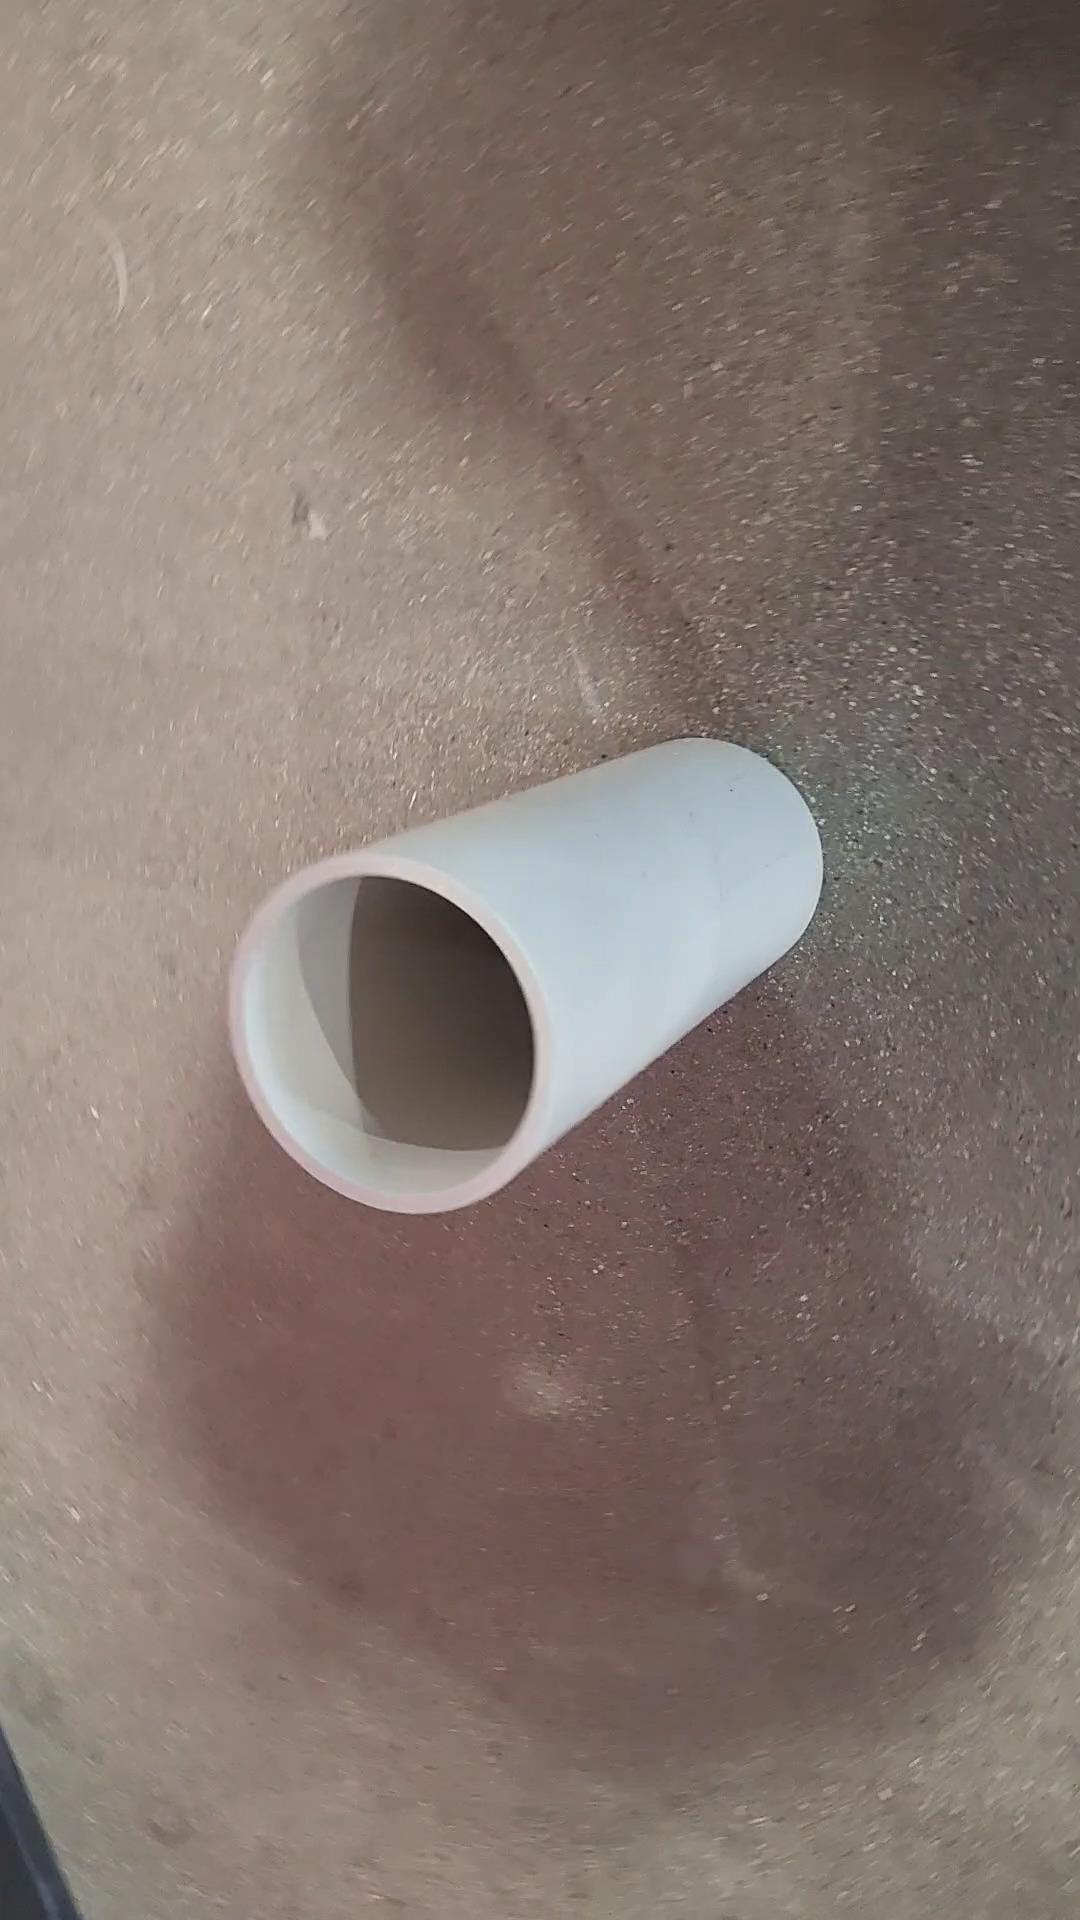coral: (227, 728, 823, 1220)
